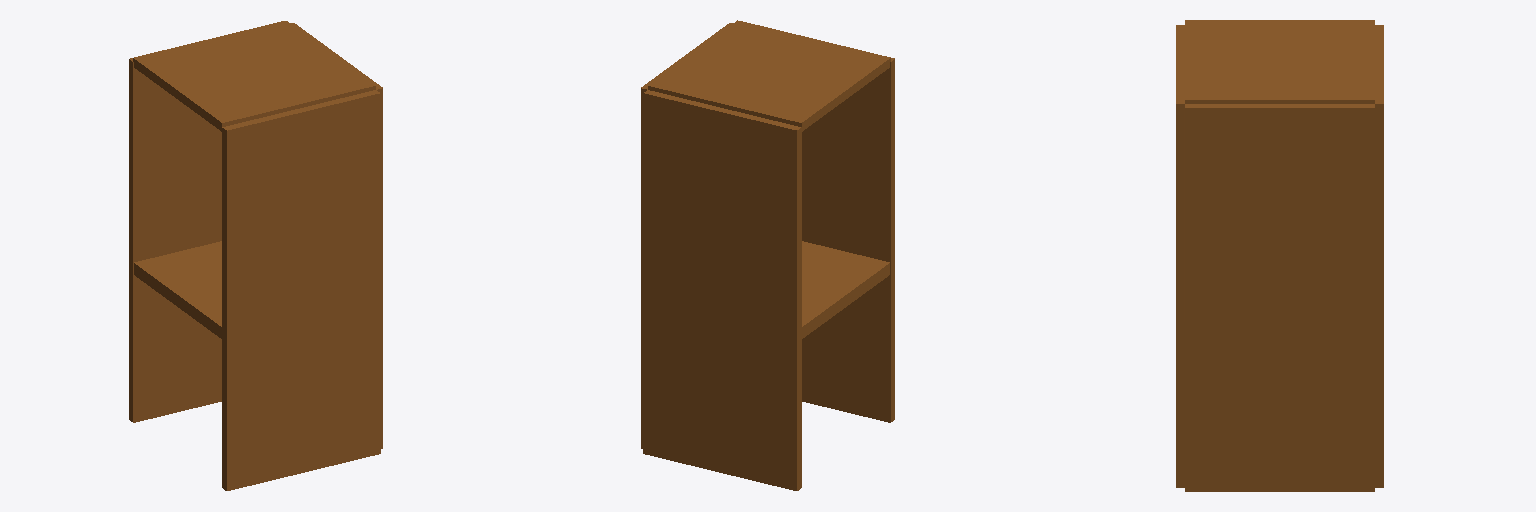
robot.urdf — dummy:
<?xml version="1.0"?>
<robot name="dummy">
  <link name="bottom_wall">
    <visual>
      <origin xyz="0.0 0.0 0.20626606778450088" rpy="0 0 0"/>
      <geometry>
        <mesh filename="bottom_wall.obj" scale="1 1 1"/>
      </geometry>
      <material name="brown">
        <color rgba="0.6 0.4 0.2 1.0"/>
      </material>
    </visual>
    <collision>
      <origin xyz="0.0 0.0 0.20626606778450088" rpy="0 0 0"/>
      <geometry>
        <mesh filename="bottom_wall.obj" scale="1 1 1"/>
      </geometry>
    </collision>
  </link>

  <link name="left_wall">
    <visual>
      <origin xyz="0.0 -0.1177695805255234 0.0" rpy="0 0 0"/>
      <geometry>
        <mesh filename="vertical_wall.obj" scale="1 1 1"/>
      </geometry>
      <material name="brown">
        <color rgba="0.6 0.4 0.2 1.0"/>
      </material>
    </visual>
    <collision>
      <origin xyz="0.0 -0.1177695805255234 0.0" rpy="0 0 0"/>
      <geometry>
        <mesh filename="vertical_wall.obj" scale="1 1 1"/>
      </geometry>
    </collision>
  </link>

  <link name="right_wall">
    <visual>
      <origin xyz="0.0 0.1177695805255234 0.0" rpy="0 0 0"/>
      <geometry>
        <mesh filename="vertical_wall.obj" scale="1 1 1"/>
      </geometry>
      <material name="brown">
        <color rgba="0.6 0.4 0.2 1.0"/>
      </material>
    </visual>
    <collision>
      <origin xyz="0.0 0.1177695805255234 0.0" rpy="0 0 0"/>
      <geometry>
        <mesh filename="vertical_wall.obj" scale="1 1 1"/>
      </geometry>
    </collision>
  </link>

  <link name="back_wall">
    <visual>
      <origin xyz="0.1168439038842506 0.0 0.0" rpy="0 0 0"/>
      <geometry>
        <mesh filename="back_wall.obj" scale="1 1 1"/>
      </geometry>
      <material name="brown">
        <color rgba="0.6 0.4 0.2 1.0"/>
      </material>
    </visual>
    <collision>
      <origin xyz="0.1168439038842506 0.0 0.0" rpy="0 0 0"/>
      <geometry>
        <mesh filename="back_wall.obj" scale="1 1 1"/>
      </geometry>
    </collision>
  </link>

  <link name="top_wall">
    <visual>
      <origin xyz="0.0 0.0 0.4948887441299062" rpy="0 0 0"/>
      <geometry>
        <mesh filename="top_wall.obj" scale="1 1 1"/>
      </geometry>
      <material name="brown">
        <color rgba="0.6 0.4 0.2 1.0"/>
      </material>
    </visual>
    <collision>
      <origin xyz="0.0 0.0 0.4948887441299062" rpy="0 0 0"/>
      <geometry>
        <mesh filename="top_wall.obj" scale="1 1 1"/>
      </geometry>
    </collision>
  </link>

  <joint name="left_wall_joint" type="fixed">
    <origin xyz="0 0 0" rpy="0 0 0"/>
    <parent link="bottom_wall"/>
    <child link="left_wall"/>
  </joint>

  <joint name="right_wall_joint" type="fixed">
    <origin xyz="0 0 0" rpy="0 0 0"/>
    <parent link="bottom_wall"/>
    <child link="right_wall"/>
  </joint>

  <joint name="back_wall_joint" type="fixed">
    <origin xyz="0 0 0" rpy="0 0 0"/>
    <parent link="bottom_wall"/>
    <child link="back_wall"/>
  </joint>

  <joint name="top_wall_joint" type="fixed">
    <origin xyz="0 0 0" rpy="0 0 0"/>
    <parent link="bottom_wall"/>
    <child link="top_wall"/>
  </joint>

</robot>

--- Render facts (derived) ---
3 views of the same robot in one strip: view 1: azimuth 30°, elevation 25°; view 2: azimuth 150°, elevation 25°; view 3: azimuth 270°, elevation 25° (orthographic).
Model dummy with 5 links and 4 joints (4 fixed), rooted at bottom_wall, posed all joints at 0.
Links seen in each view (by area): view 1: left_wall, right_wall, top_wall, bottom_wall, back_wall; view 2: right_wall, left_wall, top_wall, bottom_wall, back_wall; view 3: back_wall, top_wall, left_wall, right_wall.
Boxes of the visible links, left/top/right/bottom form: left_wall: left=222, top=90, right=380, bottom=490; right_wall: left=129, top=21, right=281, bottom=422; top_wall: left=133, top=21, right=375, bottom=131; bottom_wall: left=134, top=241, right=221, bottom=338; back_wall: left=291, top=23, right=382, bottom=448; right_wall: left=643, top=90, right=801, bottom=490; left_wall: left=742, top=21, right=894, bottom=422; top_wall: left=648, top=20, right=890, bottom=131; bottom_wall: left=802, top=241, right=889, bottom=338; back_wall: left=641, top=23, right=732, bottom=448; back_wall: left=1185, top=104, right=1374, bottom=491; top_wall: left=1185, top=20, right=1374, bottom=103; left_wall: left=1176, top=25, right=1184, bottom=487; right_wall: left=1375, top=25, right=1383, bottom=487.
Bounding box of the posed robot: 0.2345 × 0.2479 × 0.5077 m (x, y, z).
5 mesh visuals loaded from 4 distinct referenced files (4 OBJ).
